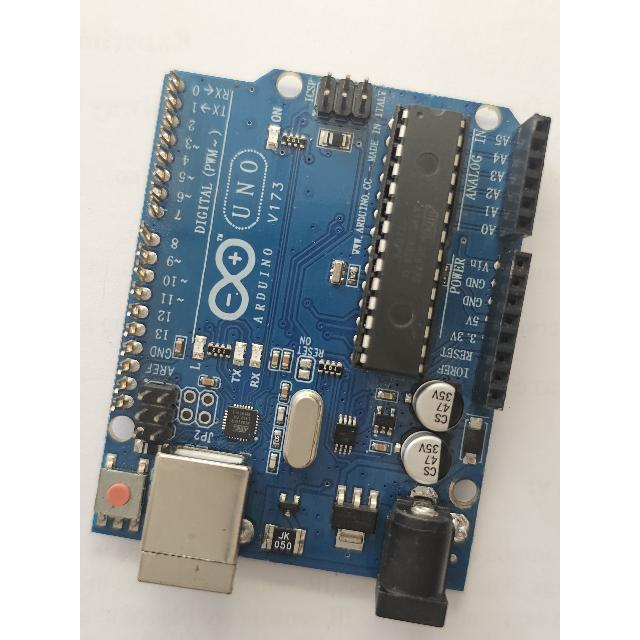missing_digital_pins: (102, 65, 192, 417)
